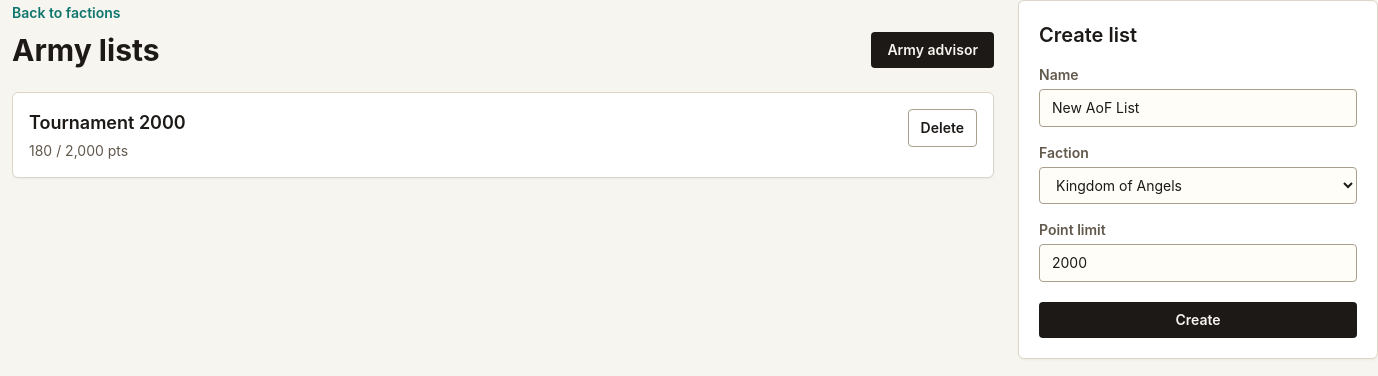
Scenario: ListsPage › deletes an army list after confirmation
Check: the link "Tournament 2000 180 / 2,000 pts" is shown, box [29, 112, 186, 159]
Click the button with aria-label "delete tournament 2000": (942, 128) [908, 109, 977, 147]
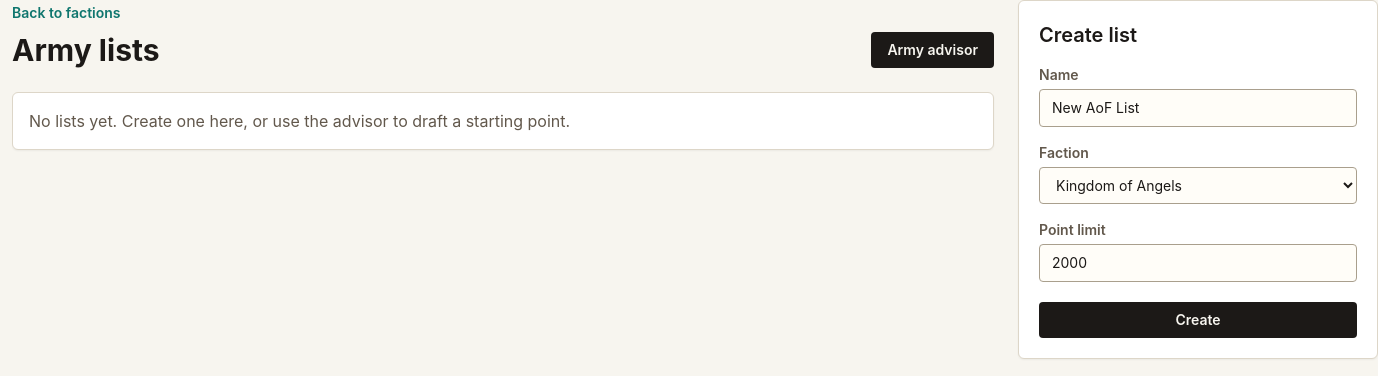
Check: the link "Tournament 2000" is gone
